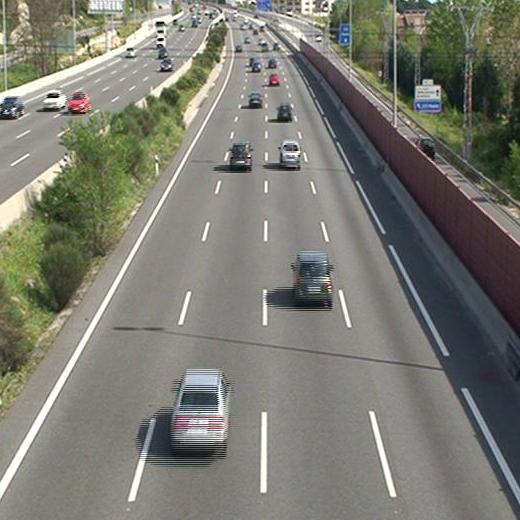car: (171, 370, 230, 450), (292, 250, 333, 304), (229, 142, 252, 171), (279, 142, 303, 169), (276, 103, 293, 121), (248, 91, 263, 108), (268, 73, 279, 84), (251, 61, 263, 71), (268, 58, 276, 69)
